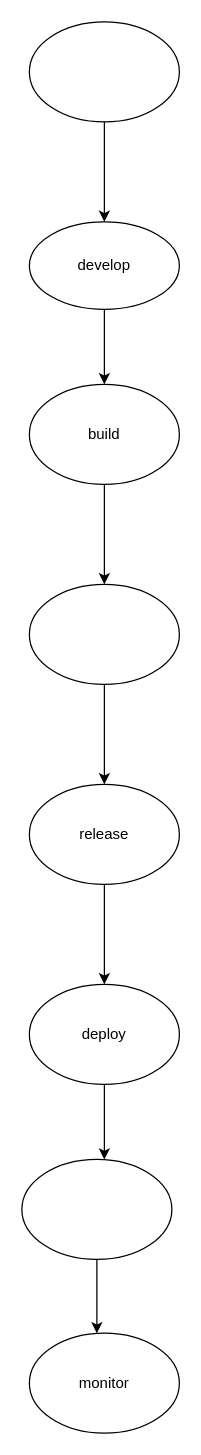
Image size: 201x1455. Some labels were removed from this diagram. The centre of each missing label's shape, as x and y in pixels:
o[perate: the point at 96,1208
plan: the point at 103,71
text: the point at 103,633
